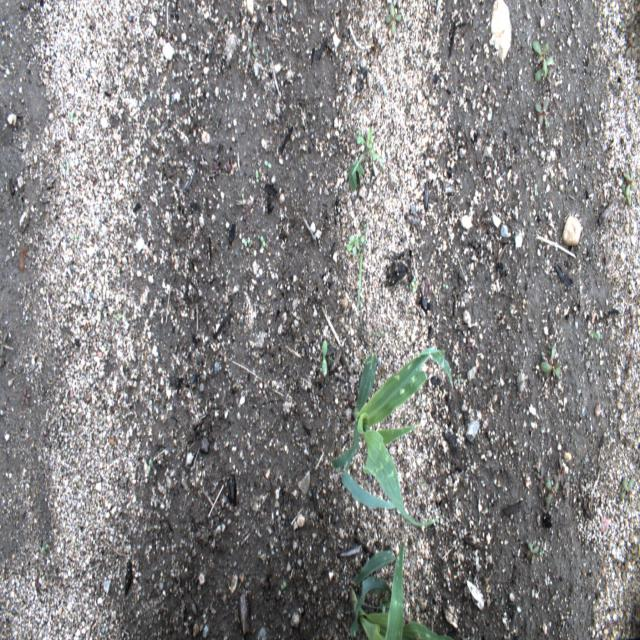crop: (330, 344, 456, 528), (348, 545, 451, 637)
weed: (347, 137, 376, 199), (536, 451, 568, 507), (527, 38, 556, 80), (538, 336, 561, 382), (358, 224, 370, 308), (535, 95, 557, 137), (618, 18, 638, 64), (64, 100, 85, 136), (619, 545, 638, 583), (620, 166, 637, 208), (247, 34, 265, 70), (618, 473, 638, 505), (258, 154, 282, 180), (386, 6, 404, 40), (320, 326, 330, 383), (525, 542, 545, 570), (0, 325, 14, 365), (238, 227, 254, 258), (254, 164, 268, 197), (257, 226, 273, 254), (34, 533, 52, 554), (346, 234, 356, 255), (590, 328, 602, 344)
